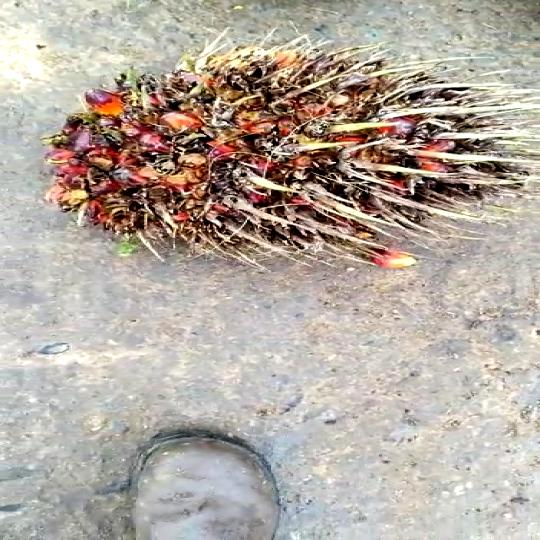terlalu masak: (41, 41, 503, 268)
